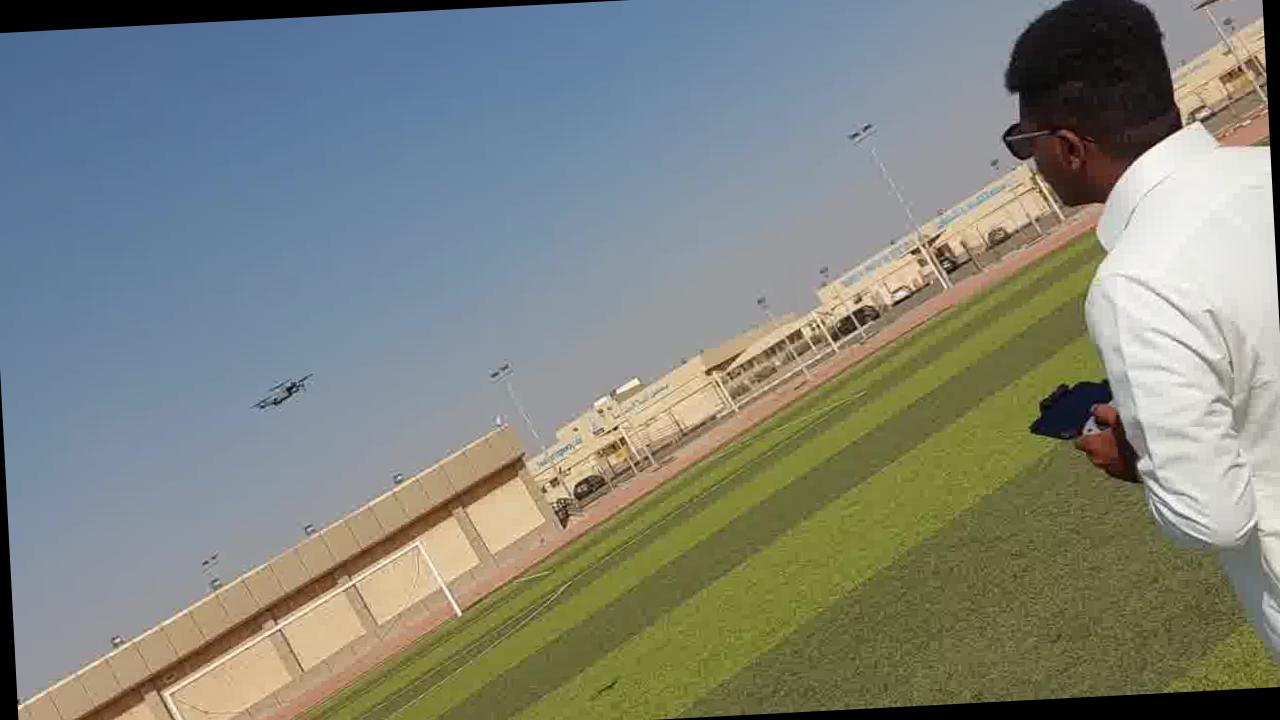drone: (245, 362, 321, 414)
